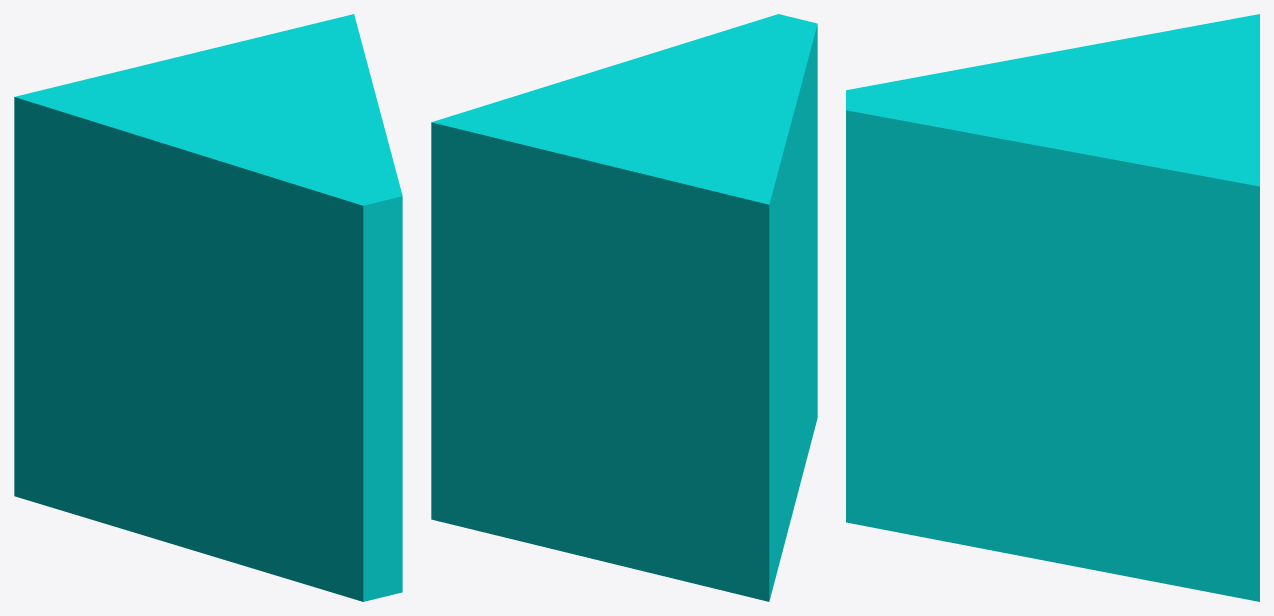
The model's file is SM_Bld_Corner_Tower_03_Alt_01_Collision.fbx.
3 views of the same model, side by side, from view 1: azimuth 30°, elevation 25°; view 2: azimuth 150°, elevation 25°; view 3: azimuth 270°, elevation 25° (orthographic). The views are drawn at different scales.
Visible parts, largest first — view 1: SM_Bld_Corner_Tower_03_Alt_01_Collision; view 2: SM_Bld_Corner_Tower_03_Alt_01_Collision; view 3: SM_Bld_Corner_Tower_03_Alt_01_Collision.
Part boxes in pixels (box(x1,y1,x2,y2)): SM_Bld_Corner_Tower_03_Alt_01_Collision: box(14, 14, 402, 601); SM_Bld_Corner_Tower_03_Alt_01_Collision: box(431, 14, 817, 601); SM_Bld_Corner_Tower_03_Alt_01_Collision: box(846, 14, 1259, 601).
Size of the model in its own units: 388 by 436 by 393.
